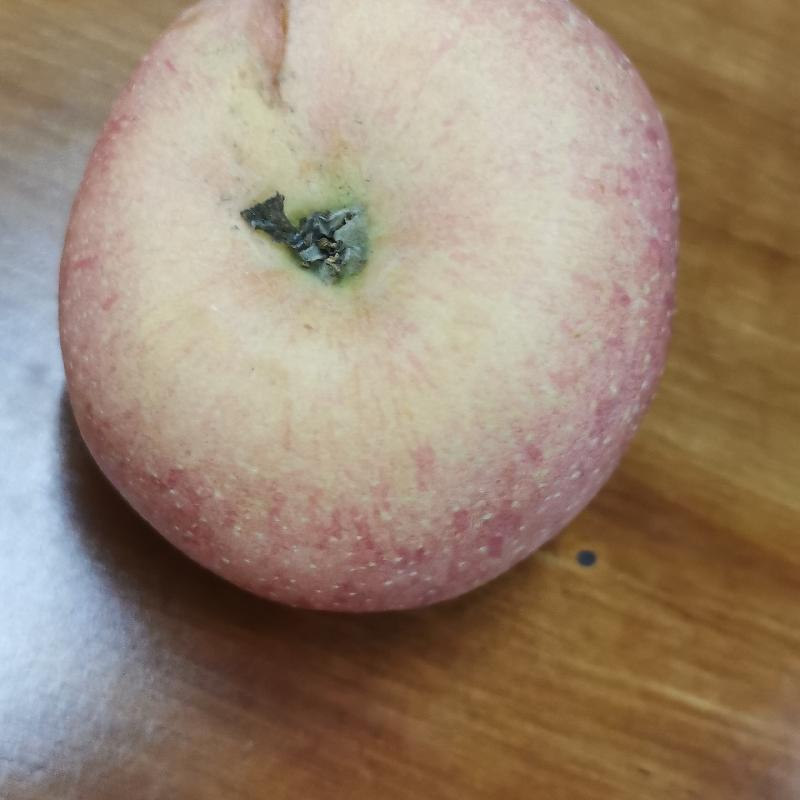apples: (57, 3, 681, 621)
